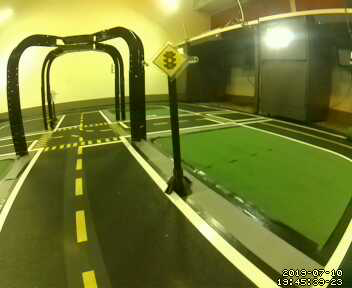Traffic light sign: (154, 45, 186, 75)
